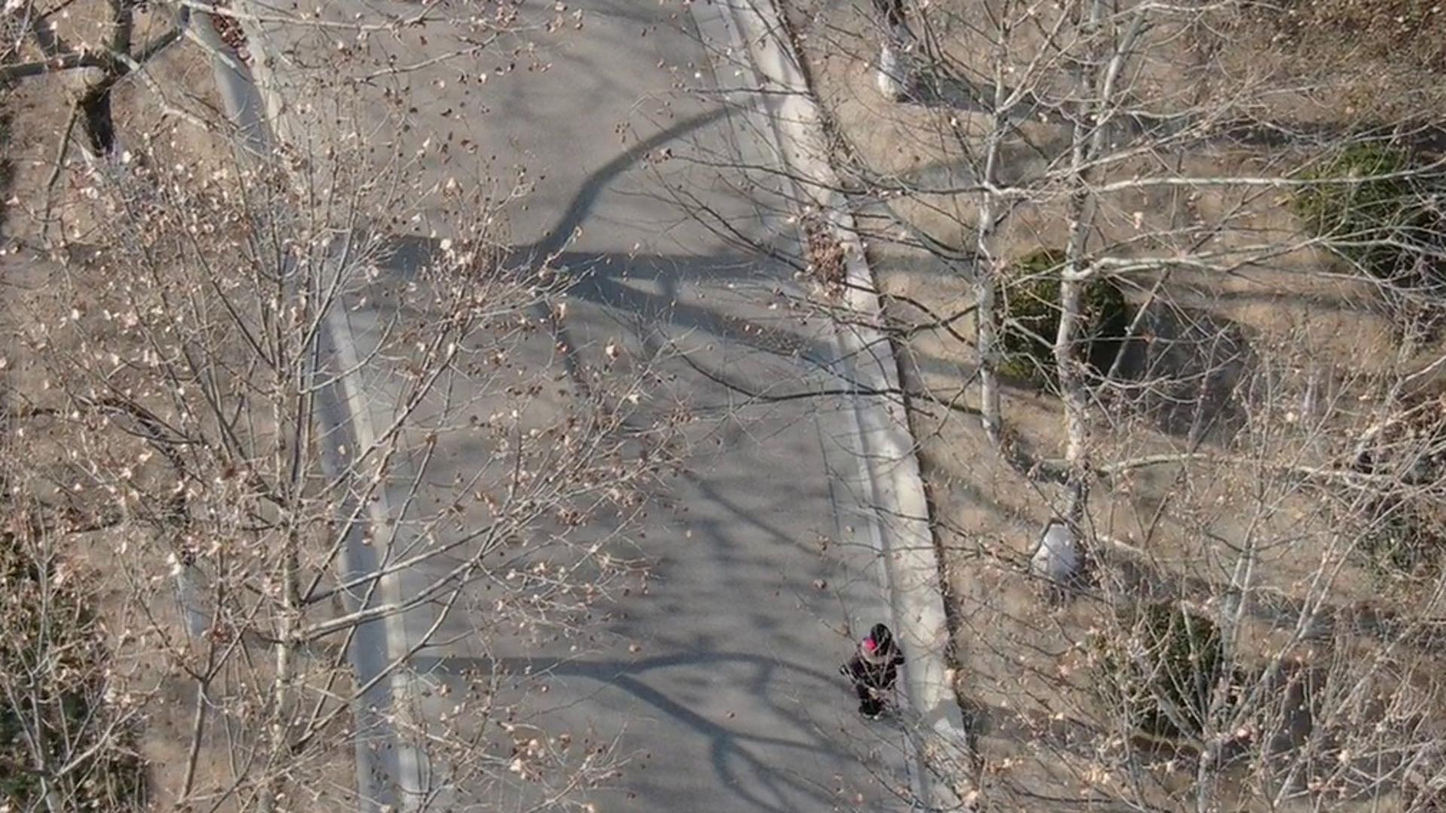human: (850, 620, 918, 717)
